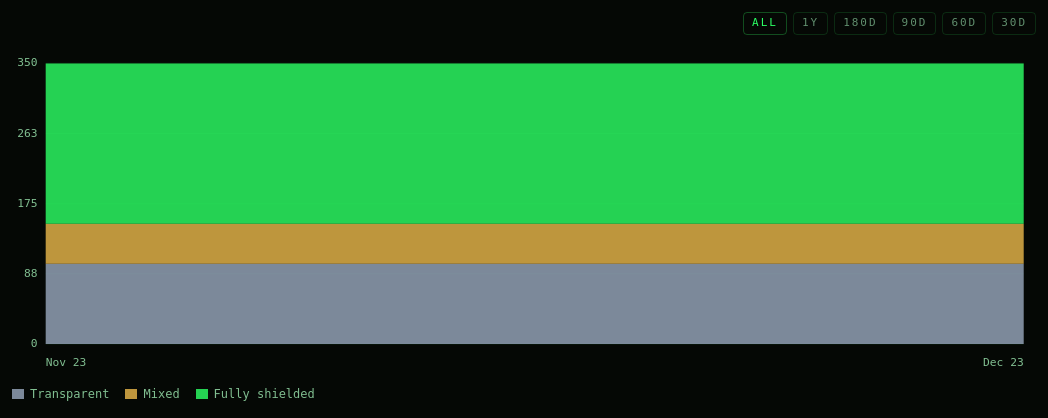
Test: ChartFigure range toggle › starts at ALL on the monthly series and switches to the daily one
Click the button "30D": (1014, 23) [992,12,1036,34]
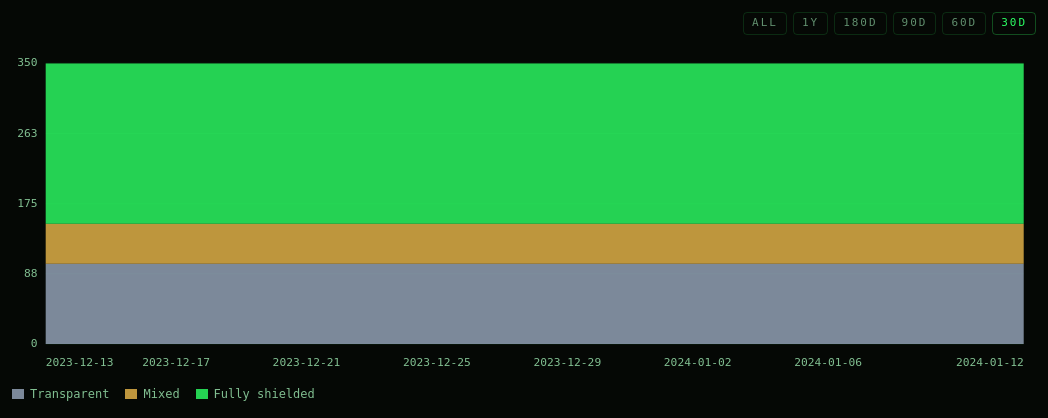
Expected: the picture named "per day by privacy kind" is shown
